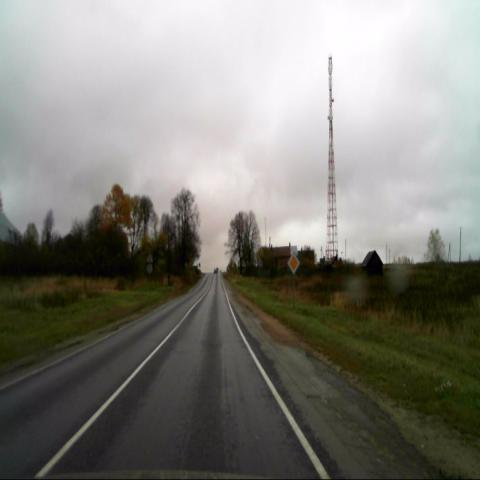2_1: (288, 252, 300, 275)
